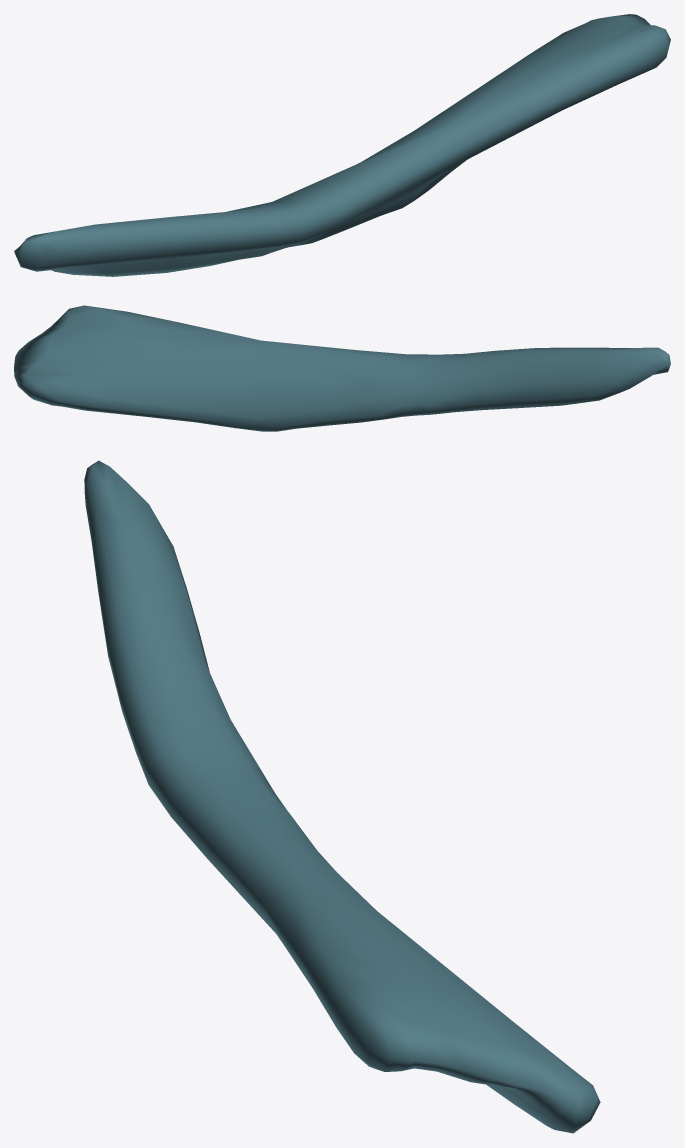
Rendered from Geniohyoid_muscle_hyoid_bone_left.glb.
3 renders of one model, top to bottom at view 1: azimuth 30°, elevation 25°; view 2: azimuth 150°, elevation 25°; view 3: azimuth 270°, elevation 25°, orthographic. The views are drawn at different scales.
Visible parts, largest first — view 1: Geniohyoid_muscle_on_hyoid_bone.l_Generated_Mesh_From_X3D.94; view 2: Geniohyoid_muscle_on_hyoid_bone.l_Generated_Mesh_From_X3D.94; view 3: Geniohyoid_muscle_on_hyoid_bone.l_Generated_Mesh_From_X3D.94.
Boxes of the visible parts, box(x1,y1,x2,y2) form: Geniohyoid_muscle_on_hyoid_bone.l_Generated_Mesh_From_X3D.94: box(14, 14, 670, 276); Geniohyoid_muscle_on_hyoid_bone.l_Generated_Mesh_From_X3D.94: box(14, 305, 670, 431); Geniohyoid_muscle_on_hyoid_bone.l_Generated_Mesh_From_X3D.94: box(84, 460, 600, 1133).
Bounding box in the file's own units: 0.00992 × 0.00186 × 0.00406.
